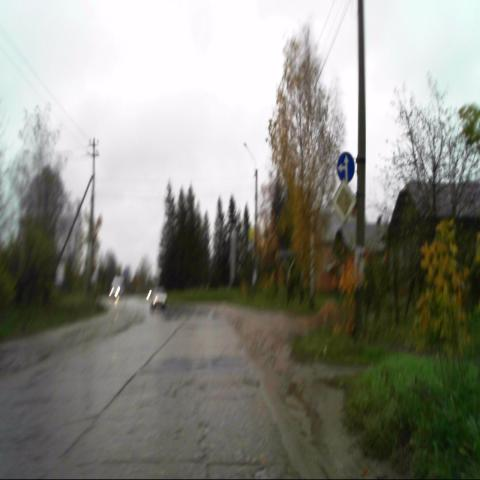4_1_5: (337, 152, 354, 183)
